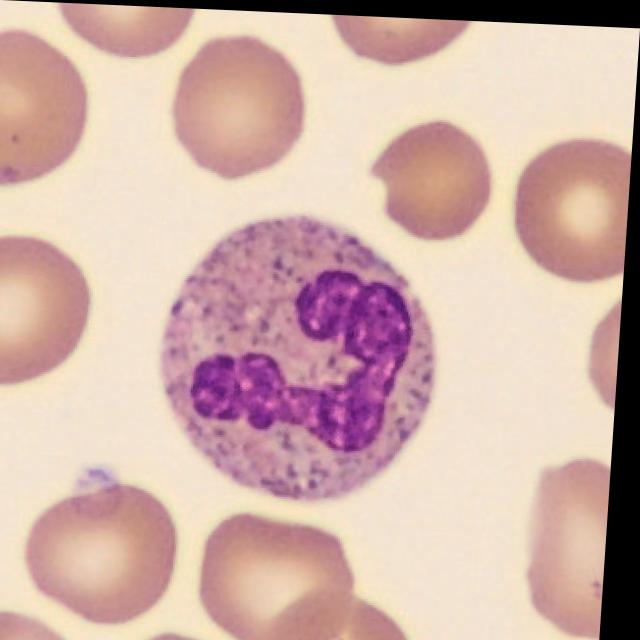Neutrofilo segmentado: (163, 213, 442, 501)
